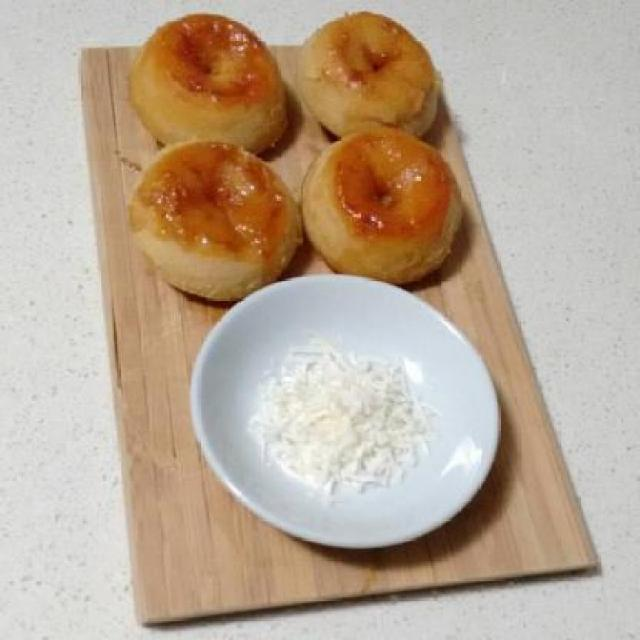Bread: (125, 126, 302, 296), (300, 128, 465, 282), (130, 15, 286, 152), (294, 10, 443, 138)
